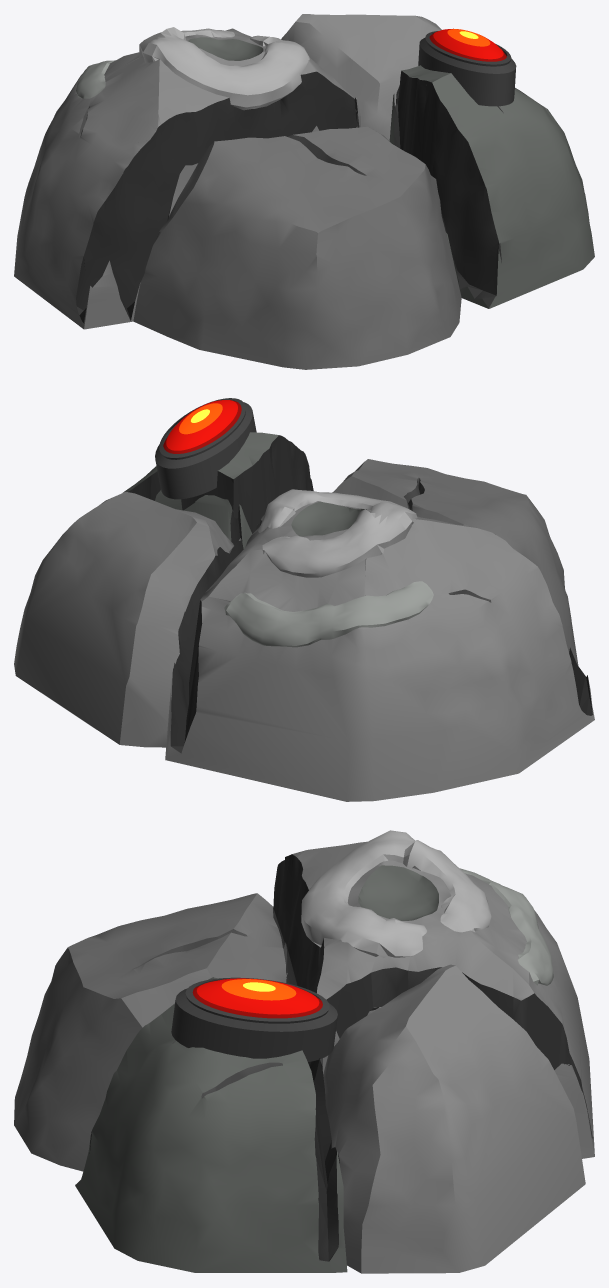
File: rock_beacon_55.glb
3 views of the same model, one above another, from view 1: azimuth 30°, elevation 25°; view 2: azimuth 150°, elevation 25°; view 3: azimuth 270°, elevation 25° (orthographic). The views are drawn at different scales.
Visible parts, largest first — view 1: rock_beacon_55; view 2: rock_beacon_55; view 3: rock_beacon_55.
Boxes of the visible parts, bbox=[...] form: rock_beacon_55: bbox=[14, 14, 594, 369]; rock_beacon_55: bbox=[14, 398, 594, 801]; rock_beacon_55: bbox=[14, 830, 594, 1273].
Bounding box in the file's own units: 22.14 × 9.49 × 20.06.
